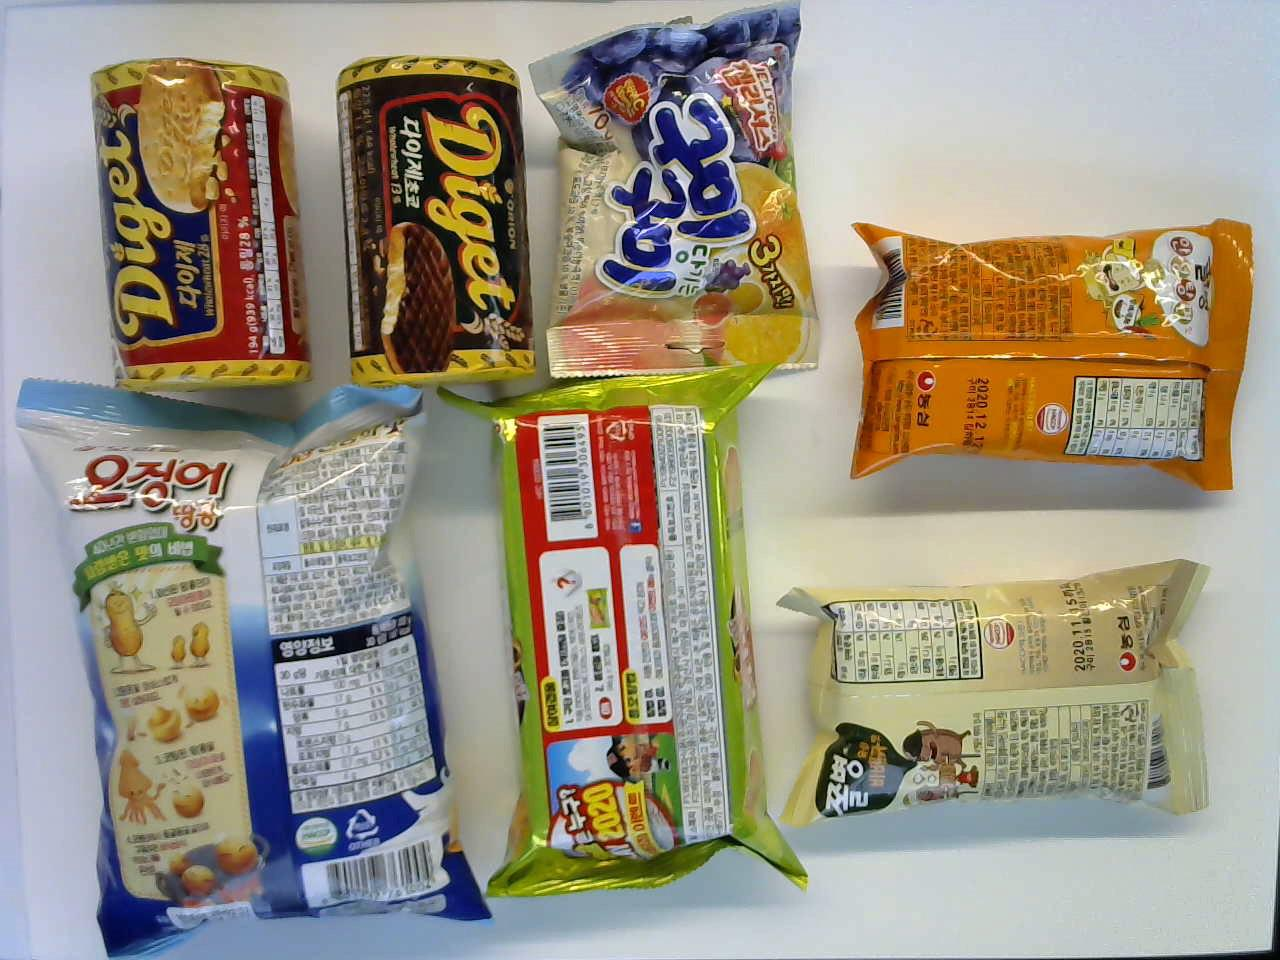diget_choco: (329, 49, 538, 383)
diget_ori: (83, 52, 311, 396)
gumi_gumi: (529, 3, 823, 377)
homerunball: (481, 355, 794, 909)
jjolbyung_noodle: (842, 216, 1261, 495)
jjolbyung_ori: (774, 555, 1215, 842)
squid_peanut: (10, 371, 490, 922)
